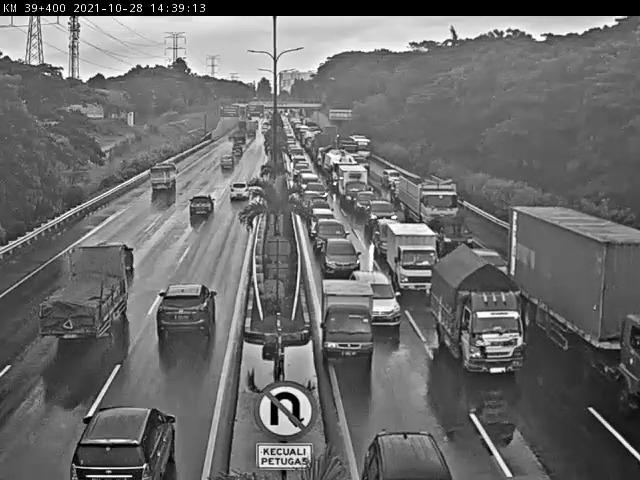big truck: (507, 202, 640, 384), (396, 175, 464, 248)
car: (70, 398, 179, 480), (359, 413, 463, 480), (149, 277, 228, 355), (351, 268, 398, 323), (323, 236, 357, 273), (186, 188, 218, 214), (317, 222, 349, 248), (310, 209, 340, 236), (222, 183, 248, 209), (368, 200, 392, 225), (216, 157, 233, 176)
small truck: (425, 233, 520, 369), (43, 236, 141, 354), (326, 276, 374, 360), (383, 221, 439, 292), (145, 161, 175, 203)
